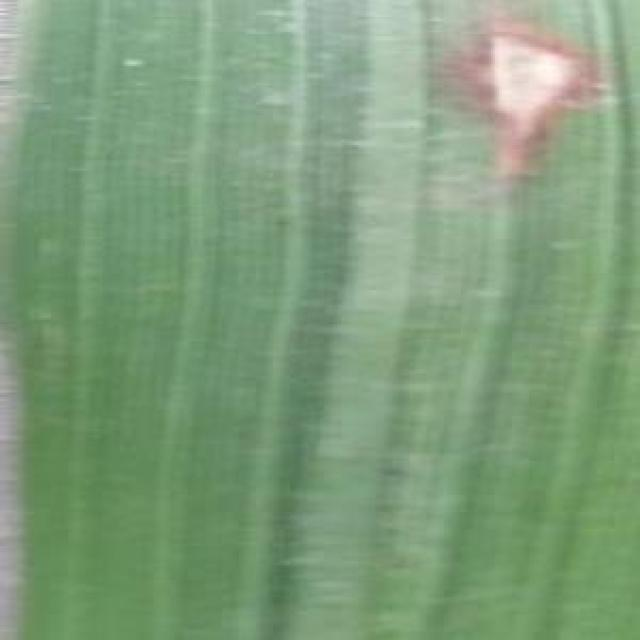Rice_Blast: (433, 14, 608, 181)
